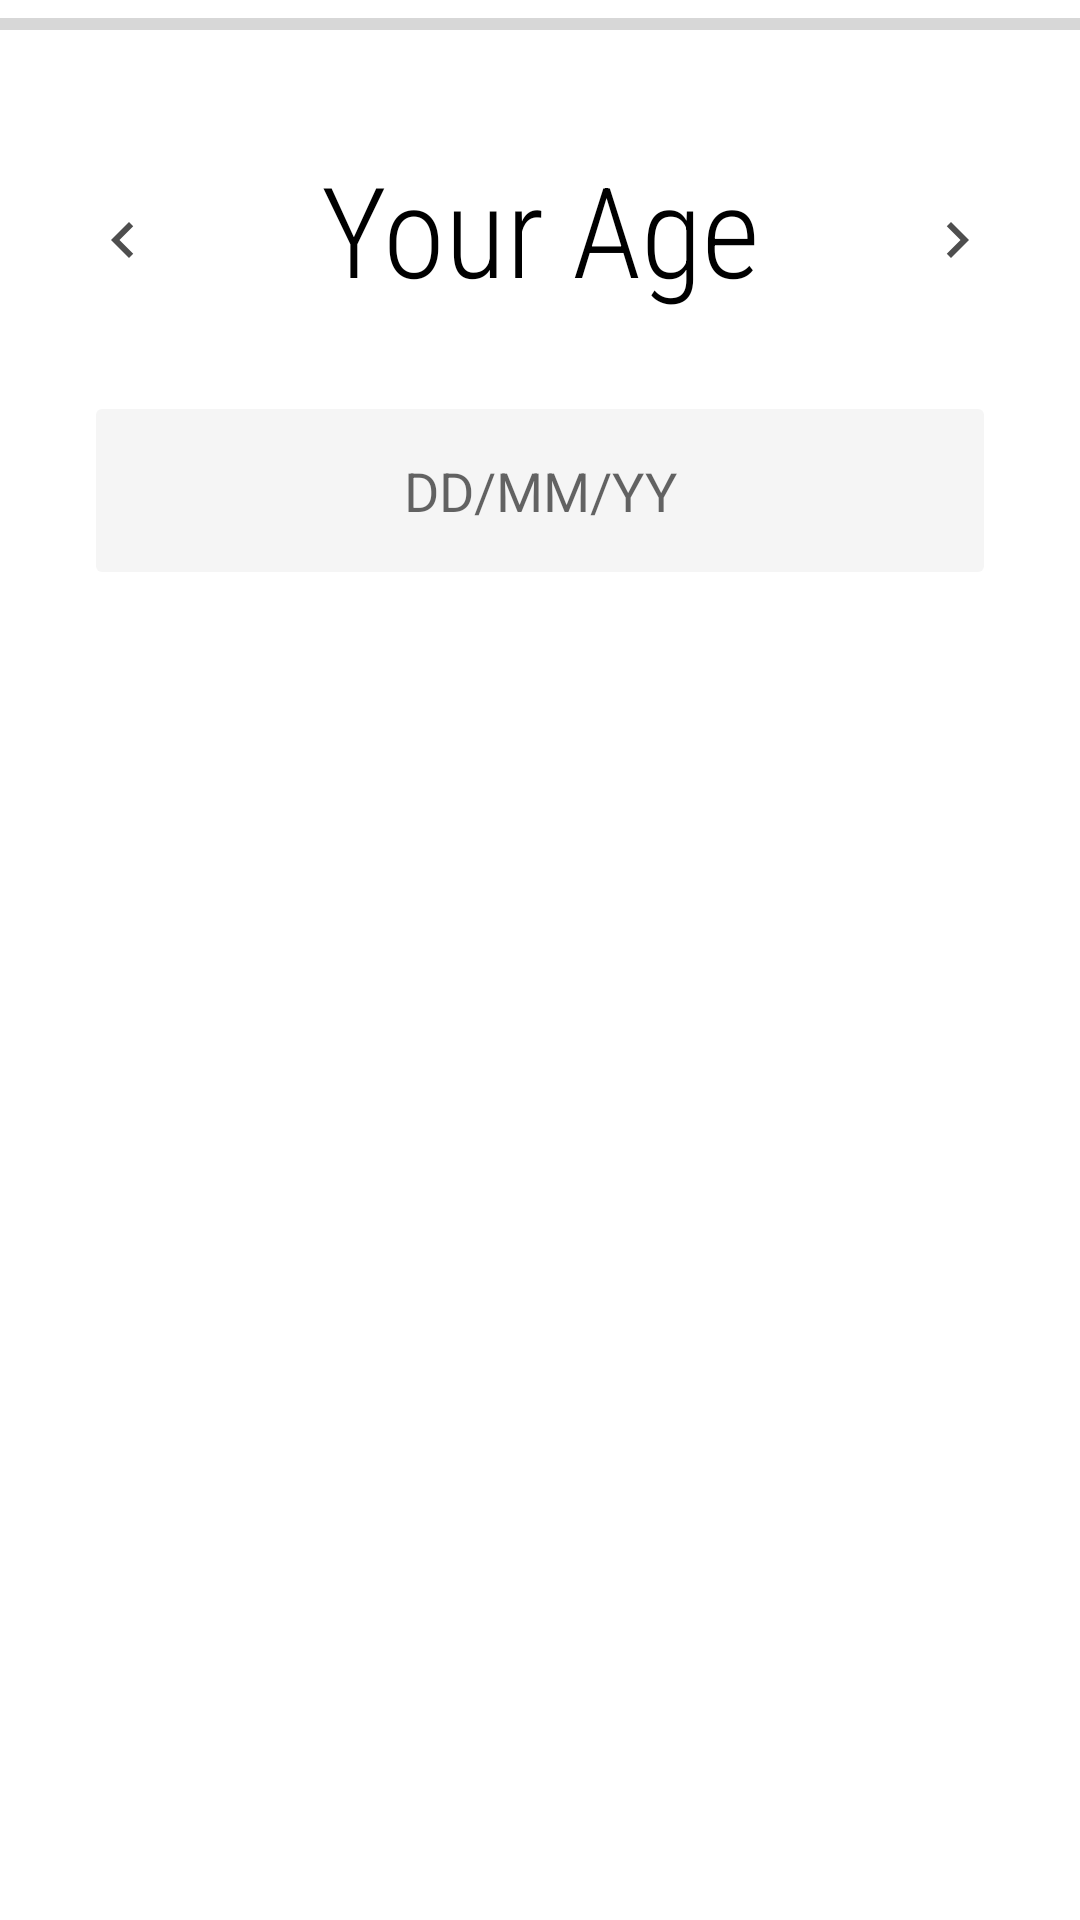

Where icons sit on this 1080px×1920px app screen, as (x1, y1, x2, y2):
chevron left: (111, 222, 133, 258)
chevron right: (947, 222, 969, 258)
